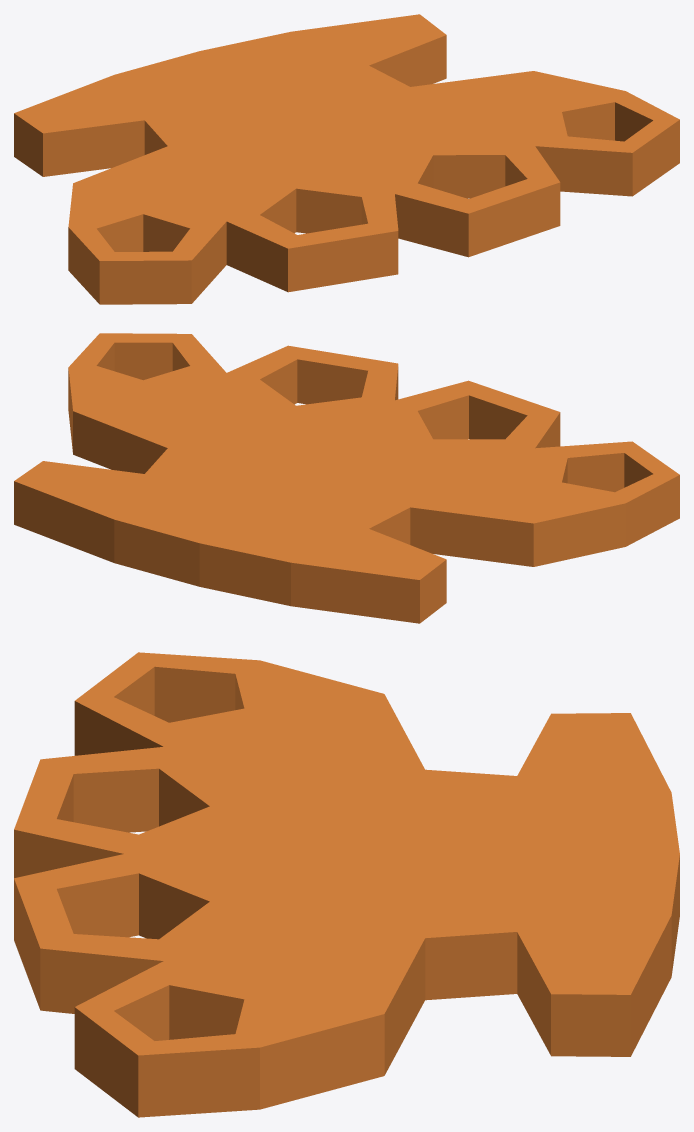
The model's file is LP_PostApoc_Plane_002.fbx.
The picture shows the model from 3 angles, top to bottom: view 1: azimuth 30°, elevation 25°; view 2: azimuth 150°, elevation 25°; view 3: azimuth 270°, elevation 25°; orthographic projection. The views are drawn at different scales.
Visible parts, largest first — view 1: Plane.002; view 2: Plane.002; view 3: Plane.002.
Part boxes in pixels (x1,y1,x2,y2): Plane.002: (14,14,679,304); Plane.002: (14,333,679,623); Plane.002: (14,652,679,1117).
Bounding box in the file's own units: 18.41 × 1.32 × 12.85.
